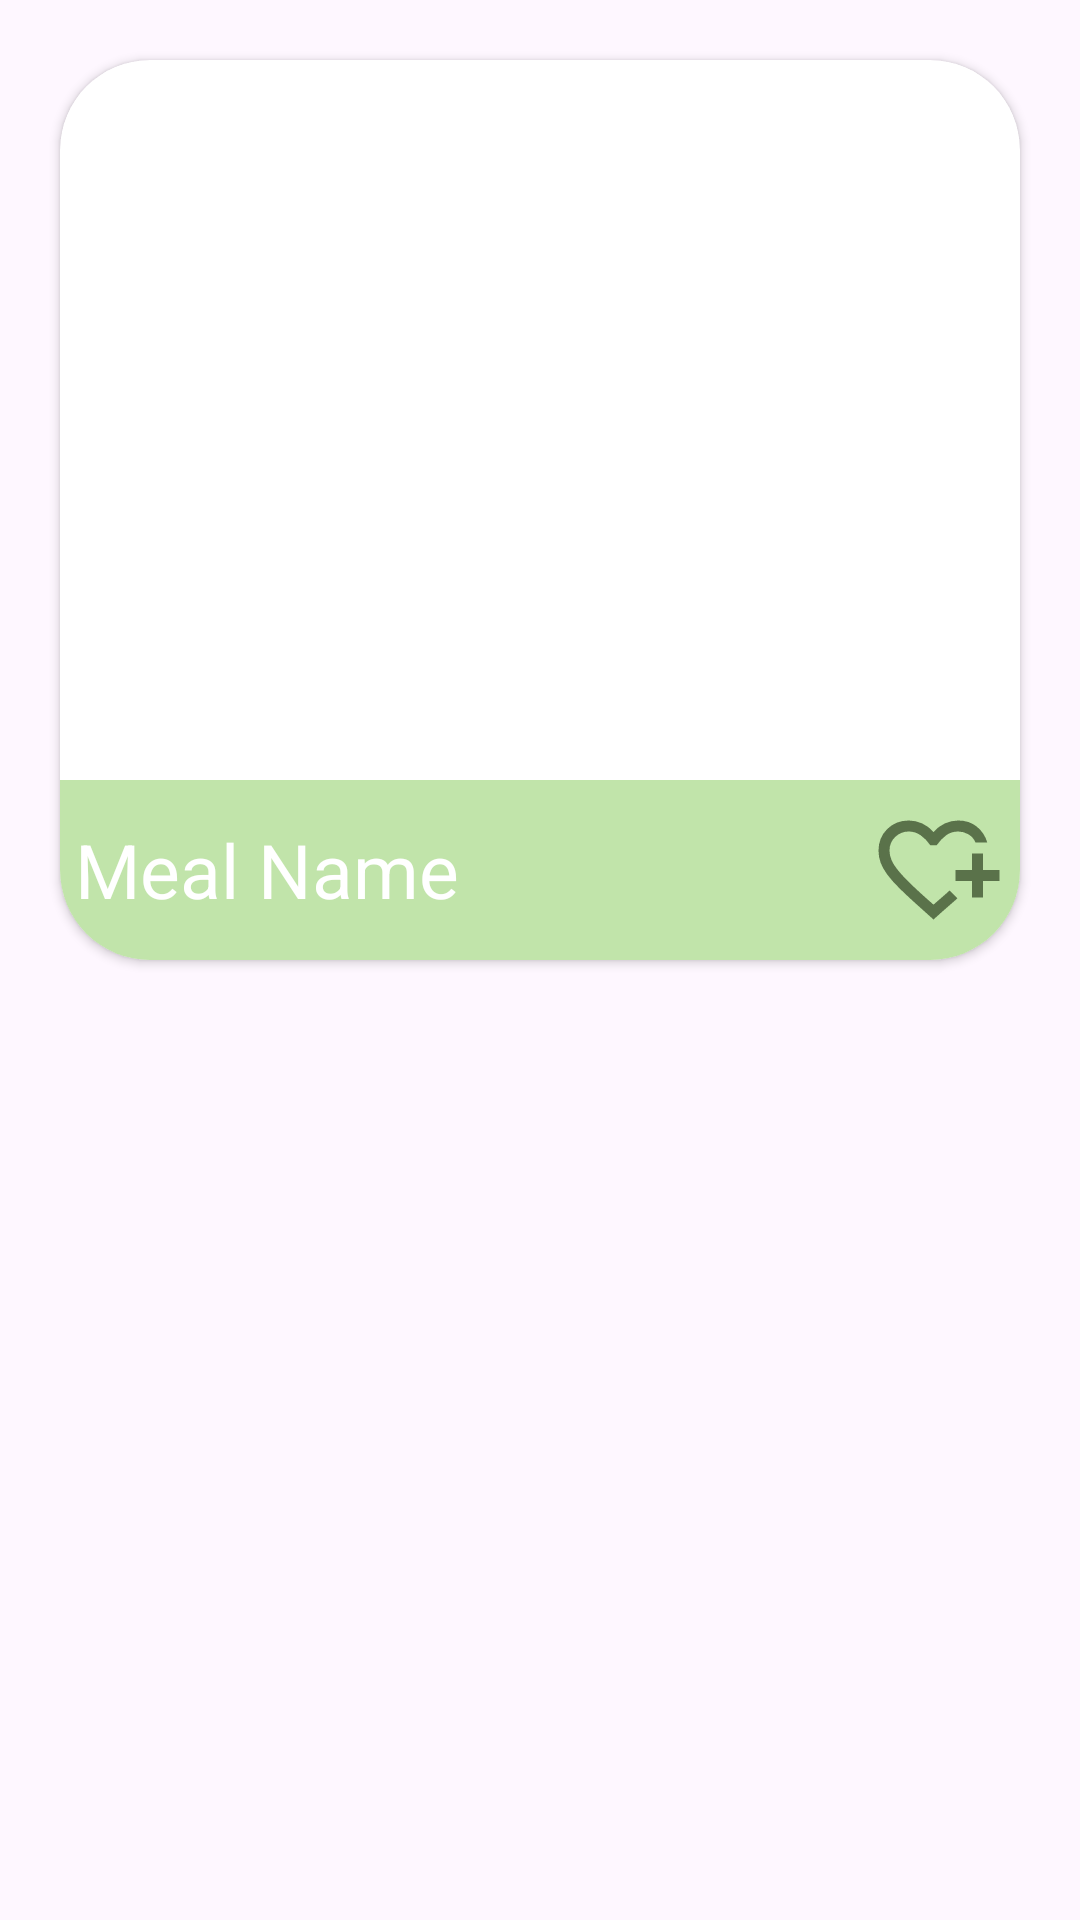

Point at icon controls on the screen. Image size 1080×1920, points as (x,y).
heart plus: (939,870)
